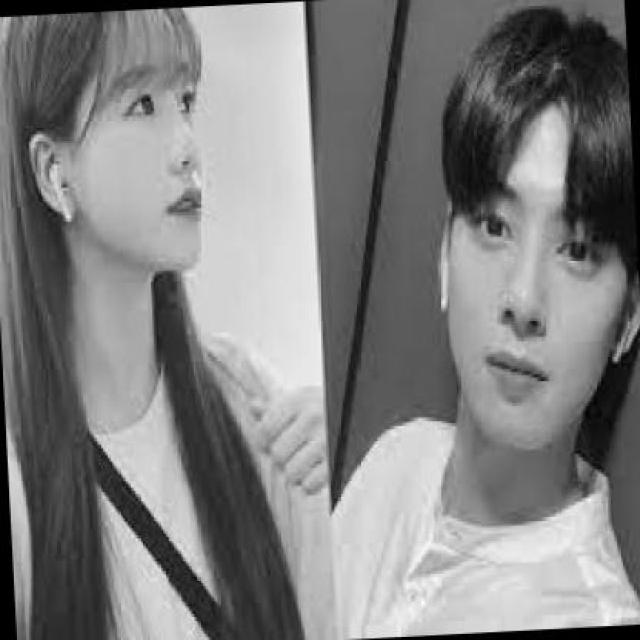earphone: (39, 160, 89, 230), (612, 299, 640, 395), (436, 251, 458, 320)
